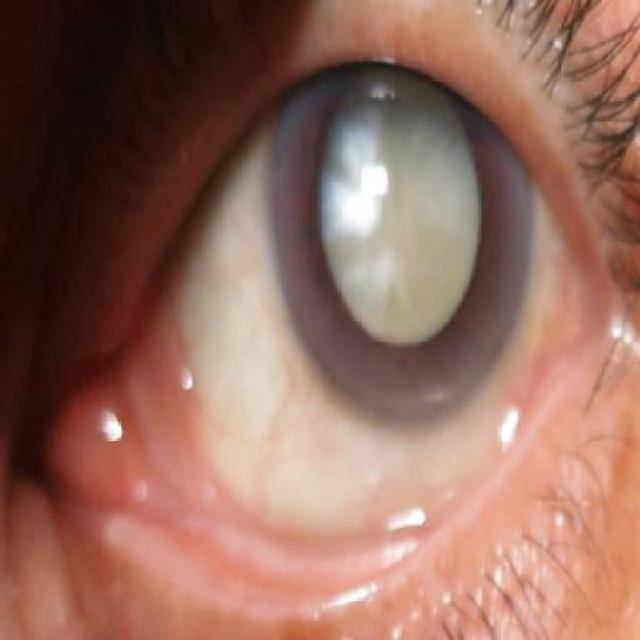Cataract: (266, 10, 541, 433)
